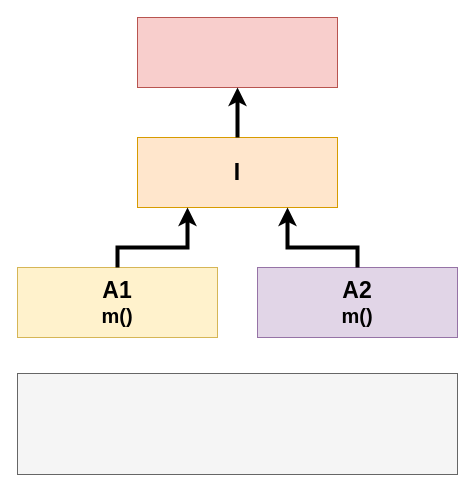
Some shapes in this 475 by 492 pixel diagram are drawn without their labels. Here are the shapes that lost their labels. From the top down, the centre of each, then its label:
At pixel 237 52: "H m()".
At pixel 237 423: "Main j<n>() main()".
